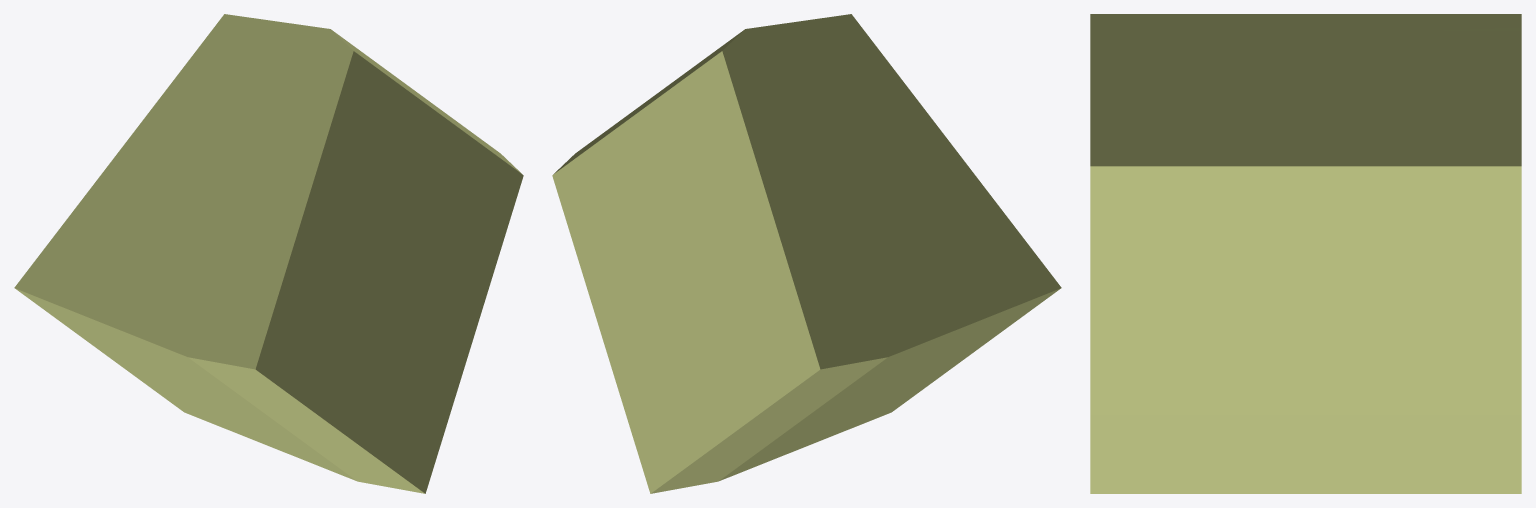
3 views of the same model, side by side, from view 1: azimuth 30°, elevation 25°; view 2: azimuth 150°, elevation 25°; view 3: azimuth 270°, elevation 25° (orthographic). The views are drawn at different scales.
Visible parts, largest first — view 1: 0_0_1_3_1_1_2_3_3_3; view 2: 0_0_1_3_1_1_2_3_3_3; view 3: 0_0_1_3_1_1_2_3_3_3.
Part boxes in pixels (x1,y1,x2,y2): 0_0_1_3_1_1_2_3_3_3: (14, 14, 523, 493); 0_0_1_3_1_1_2_3_3_3: (552, 14, 1061, 493); 0_0_1_3_1_1_2_3_3_3: (1090, 14, 1521, 493).
Bounding box in the file's own units: 10.37 × 10.6 × 9.
